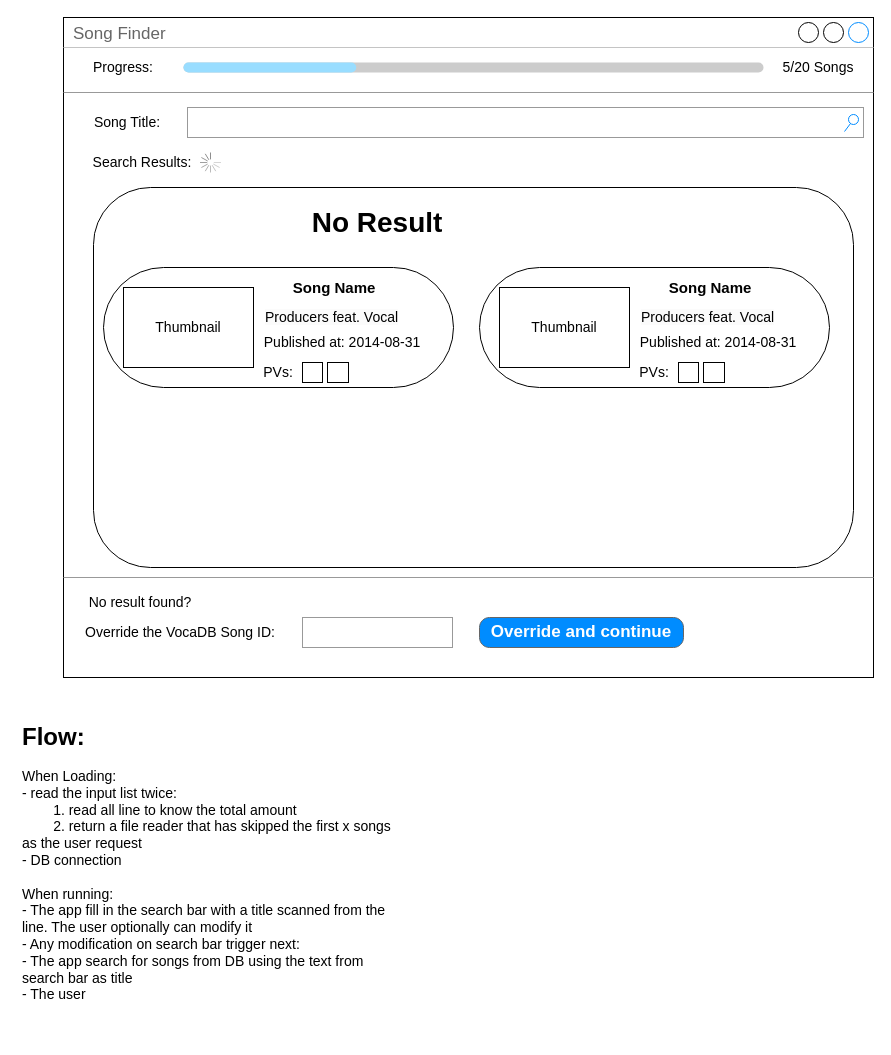
The diagram is 891 pixels wide and 1055 high, and some of its shapes have lost their labels. The shapes that lost their labels are listed below. From the top down, each one's centre as x and y in pixels, then its label:
the point at 525,122: XXXX
the point at 377,632: xxx
